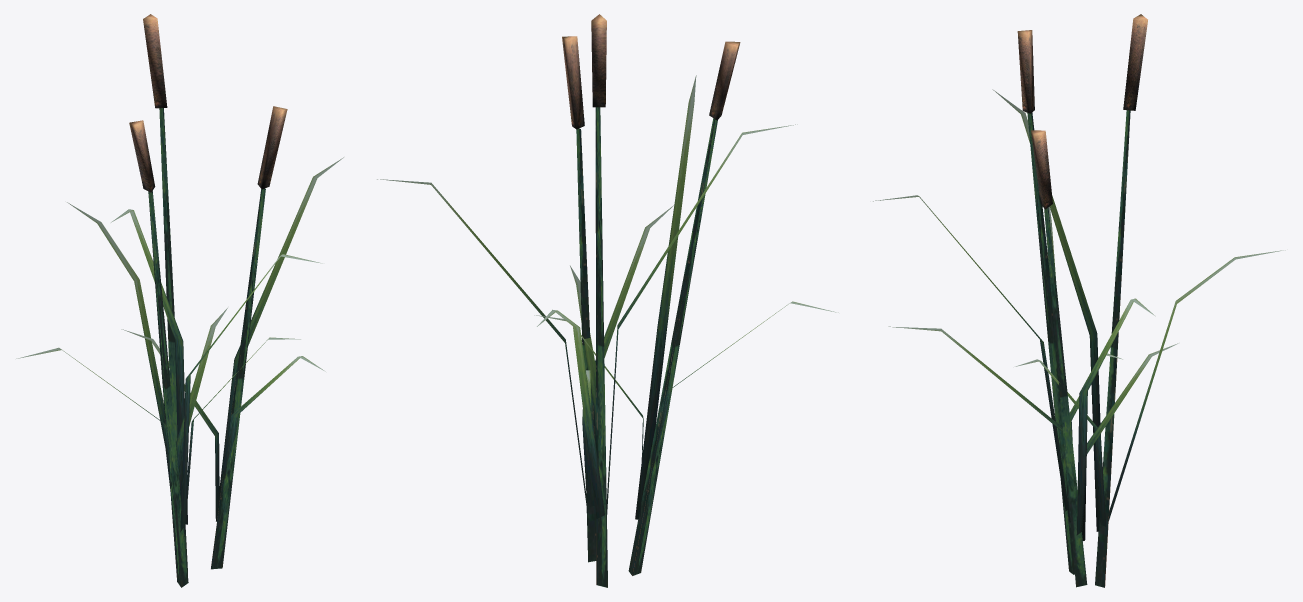
Rendered from swmp_shor_cattail_cluster_blue_l1.fbx.
The picture shows the model from 3 angles, left to right: view 1: azimuth 30°, elevation 25°; view 2: azimuth 150°, elevation 25°; view 3: azimuth 270°, elevation 25°; orthographic projection. The views are drawn at different scales.
Parts seen in each view (by area): view 1: mesh_node; view 2: mesh_node; view 3: mesh_node.
Part boxes in pixels (bbox=[...]): mesh_node: bbox=[16, 14, 343, 587]; mesh_node: bbox=[377, 14, 838, 587]; mesh_node: bbox=[873, 14, 1285, 587].
Bounding box in the file's own units: 2.7 × 3.68 × 2.5.
Materials: 1 (1 with a texture image).
